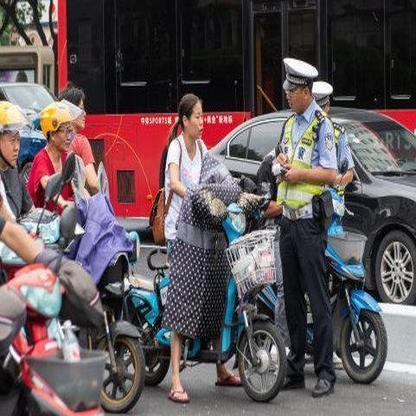target: (130, 92, 285, 402)
